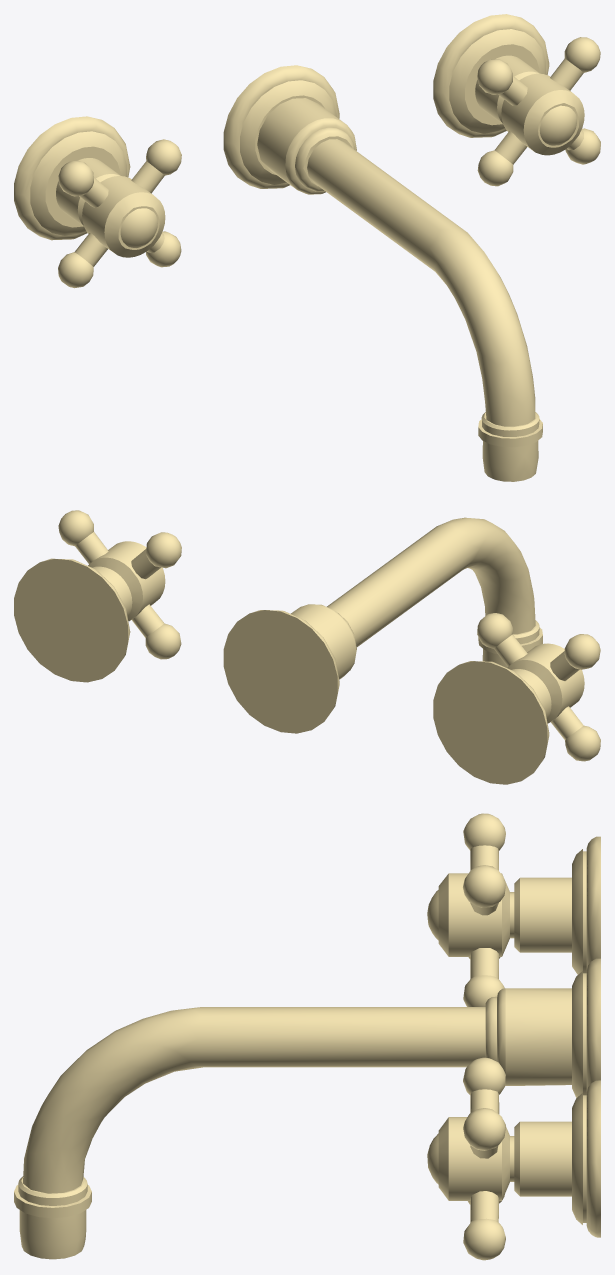
The picture shows the model from 3 angles, top to bottom: view 1: azimuth 30°, elevation 25°; view 2: azimuth 150°, elevation 25°; view 3: azimuth 270°, elevation 25°; orthographic projection. The views are drawn at different scales.
Parts seen in each view (by area): view 1: L_0b37b044_f654_4139_a7a9_9a3698ff8da3_I2, L_9d50c110_23b1_40bb_b88b_6a334fa5841f_I9, L_337180b9_f3bb_47f1_8cbf_bf1cedcbdafe_I5, L_52502912_d284_428e_b8e0_1fc98ad5e8e2_I6, L_25d18645_a11a_4cbb_8bb1_6e5605c3c3ad_I4, L_61e5322b_3d5d_463b_8f3f_49eb1d9a0d6a_I8, L_cb316cf1_db0f_402e_a290_f311158b49b2_I11, L_fd152ab3_f88b_4ddd_8cba_96357d0fcd95_I13, L_0c1f2070_6a63_418d_b48f_09364f72cee5_I3, L_f77738e1_d92a_4fef_8d5e_03646a503066_I12, L_a2fe507c_55c5_4048_bbe5_417001f35197_I10, L_01db8c26_77d8_45ef_967a_7583e818df55_I1 (+1 smaller); view 2: L_0b37b044_f654_4139_a7a9_9a3698ff8da3_I2, L_25d18645_a11a_4cbb_8bb1_6e5605c3c3ad_I4, L_61e5322b_3d5d_463b_8f3f_49eb1d9a0d6a_I8, L_52502912_d284_428e_b8e0_1fc98ad5e8e2_I6, L_9d50c110_23b1_40bb_b88b_6a334fa5841f_I9, L_337180b9_f3bb_47f1_8cbf_bf1cedcbdafe_I5, L_cb316cf1_db0f_402e_a290_f311158b49b2_I11, L_01db8c26_77d8_45ef_967a_7583e818df55_I1, L_58acf052_fbd6_4743_892e_7f60008312ea_I7, L_0c1f2070_6a63_418d_b48f_09364f72cee5_I3; view 3: L_0b37b044_f654_4139_a7a9_9a3698ff8da3_I2, L_337180b9_f3bb_47f1_8cbf_bf1cedcbdafe_I5, L_9d50c110_23b1_40bb_b88b_6a334fa5841f_I9, L_cb316cf1_db0f_402e_a290_f311158b49b2_I11, L_58acf052_fbd6_4743_892e_7f60008312ea_I7, L_01db8c26_77d8_45ef_967a_7583e818df55_I1, L_52502912_d284_428e_b8e0_1fc98ad5e8e2_I6, L_61e5322b_3d5d_463b_8f3f_49eb1d9a0d6a_I8, L_25d18645_a11a_4cbb_8bb1_6e5605c3c3ad_I4, L_fd152ab3_f88b_4ddd_8cba_96357d0fcd95_I13, L_0c1f2070_6a63_418d_b48f_09364f72cee5_I3.
Boxes of the visible parts, x1=… form: L_0b37b044_f654_4139_a7a9_9a3698ff8da3_I2: x1=307, y1=139, x2=535, y2=426; L_9d50c110_23b1_40bb_b88b_6a334fa5841f_I9: x1=58, y1=139, x2=181, y2=288; L_337180b9_f3bb_47f1_8cbf_bf1cedcbdafe_I5: x1=477, y1=37, x2=600, y2=186; L_52502912_d284_428e_b8e0_1fc98ad5e8e2_I6: x1=433, y1=14, x2=549, y2=137; L_25d18645_a11a_4cbb_8bb1_6e5605c3c3ad_I4: x1=14, y1=116, x2=130, y2=240; L_61e5322b_3d5d_463b_8f3f_49eb1d9a0d6a_I8: x1=223, y1=65, x2=339, y2=188; L_cb316cf1_db0f_402e_a290_f311158b49b2_I11: x1=257, y1=98, x2=356, y2=194; L_fd152ab3_f88b_4ddd_8cba_96357d0fcd95_I13: x1=482, y1=441, x2=538, y2=481; L_0c1f2070_6a63_418d_b48f_09364f72cee5_I3: x1=478, y1=412, x2=542, y2=447; L_f77738e1_d92a_4fef_8d5e_03646a503066_I12: x1=120, y1=208, x2=157, y2=247; L_a2fe507c_55c5_4048_bbe5_417001f35197_I10: x1=540, y1=105, x2=576, y2=145; L_01db8c26_77d8_45ef_967a_7583e818df55_I1: x1=475, y1=55, x2=539, y2=123; L_0b37b044_f654_4139_a7a9_9a3698ff8da3_I2: x1=327, y1=517, x2=535, y2=647; L_25d18645_a11a_4cbb_8bb1_6e5605c3c3ad_I4: x1=433, y1=661, x2=549, y2=784; L_61e5322b_3d5d_463b_8f3f_49eb1d9a0d6a_I8: x1=223, y1=610, x2=339, y2=733; L_52502912_d284_428e_b8e0_1fc98ad5e8e2_I6: x1=14, y1=558, x2=130, y2=682; L_9d50c110_23b1_40bb_b88b_6a334fa5841f_I9: x1=477, y1=613, x2=600, y2=761; L_337180b9_f3bb_47f1_8cbf_bf1cedcbdafe_I5: x1=58, y1=510, x2=181, y2=659; L_cb316cf1_db0f_402e_a290_f311158b49b2_I11: x1=291, y1=604, x2=356, y2=679; L_01db8c26_77d8_45ef_967a_7583e818df55_I1: x1=92, y1=566, x2=132, y2=616; L_58acf052_fbd6_4743_892e_7f60008312ea_I7: x1=512, y1=669, x2=551, y2=718; L_0c1f2070_6a63_418d_b48f_09364f72cee5_I3: x1=478, y1=620, x2=542, y2=653; L_0b37b044_f654_4139_a7a9_9a3698ff8da3_I2: x1=23, y1=1007, x2=485, y2=1193; L_337180b9_f3bb_47f1_8cbf_bf1cedcbdafe_I5: x1=438, y1=1057, x2=514, y2=1260; L_9d50c110_23b1_40bb_b88b_6a334fa5841f_I9: x1=438, y1=813, x2=514, y2=1006; L_cb316cf1_db0f_402e_a290_f311158b49b2_I11: x1=485, y1=988, x2=571, y2=1085; L_58acf052_fbd6_4743_892e_7f60008312ea_I7: x1=514, y1=877, x2=571, y2=952; L_01db8c26_77d8_45ef_967a_7583e818df55_I1: x1=514, y1=1121, x2=571, y2=1196; L_52502912_d284_428e_b8e0_1fc98ad5e8e2_I6: x1=572, y1=1080, x2=600, y2=1237; L_61e5322b_3d5d_463b_8f3f_49eb1d9a0d6a_I8: x1=572, y1=958, x2=600, y2=1097; L_25d18645_a11a_4cbb_8bb1_6e5605c3c3ad_I4: x1=572, y1=836, x2=600, y2=974; L_fd152ab3_f88b_4ddd_8cba_96357d0fcd95_I13: x1=19, y1=1210, x2=86, y2=1259; L_0c1f2070_6a63_418d_b48f_09364f72cee5_I3: x1=14, y1=1176, x2=91, y2=1218.
Size of the model in its own units: 0.2571 by 0.1085 by 0.2035.
